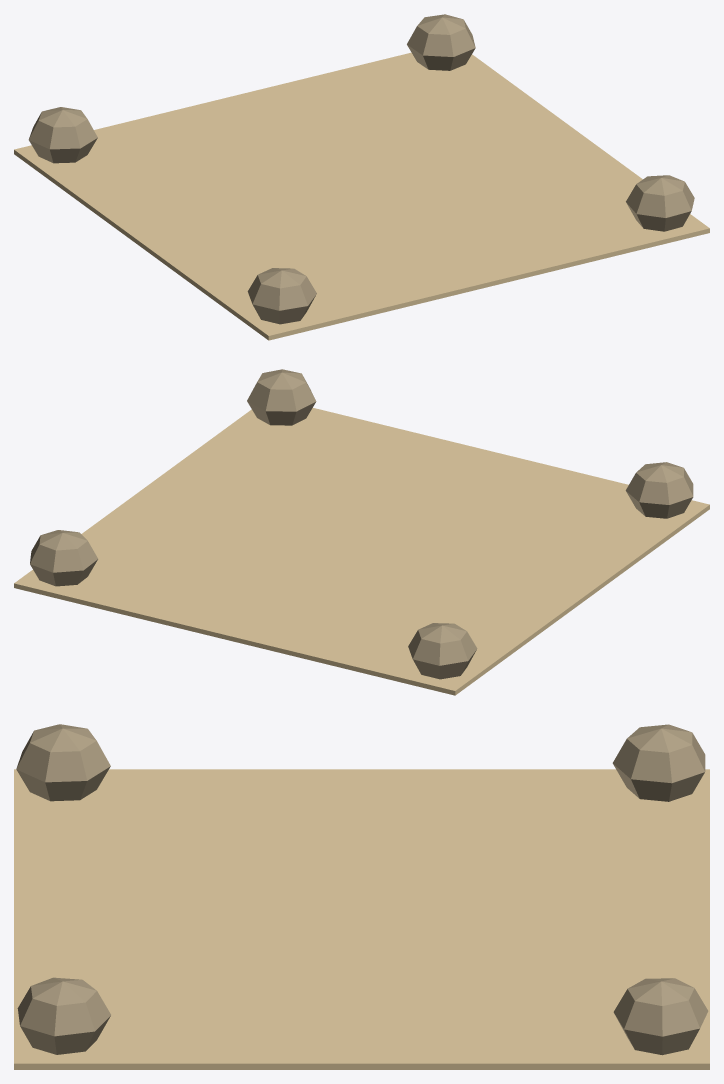
Rendered from stockpile.glb.
3 views of the same model, one above another, from view 1: azimuth 30°, elevation 25°; view 2: azimuth 150°, elevation 25°; view 3: azimuth 270°, elevation 25° (orthographic). The views are drawn at different scales.
Parts seen in each view (by area): view 1: GroundPatch, CornerStone2, CornerStone1, CornerStone0, CornerStone3; view 2: GroundPatch, CornerStone3, CornerStone1, CornerStone0, CornerStone2; view 3: GroundPatch, CornerStone0, CornerStone2, CornerStone3, CornerStone1.
Boxes of the visible parts, left/top/right/bottom form: GroundPatch: left=14, top=52, right=709, bottom=340; CornerStone2: left=626, top=175, right=694, bottom=231; CornerStone1: left=407, top=14, right=475, bottom=70; CornerStone0: left=28, top=107, right=97, bottom=163; CornerStone3: left=247, top=268, right=316, bottom=324; GroundPatch: left=14, top=408, right=709, bottom=695; CornerStone3: left=625, top=462, right=693, bottom=518; CornerStone1: left=30, top=530, right=97, bottom=586; CornerStone0: left=408, top=623, right=477, bottom=679; CornerStone2: left=247, top=369, right=316, bottom=425; GroundPatch: left=14, top=769, right=709, bottom=1069; CornerStone0: left=612, top=724, right=705, bottom=801; CornerStone2: left=17, top=977, right=110, bottom=1054; CornerStone3: left=16, top=724, right=110, bottom=801; CornerStone1: left=613, top=978, right=708, bottom=1055.
Size of the model in its own units: 2 by 0.22 by 2.
